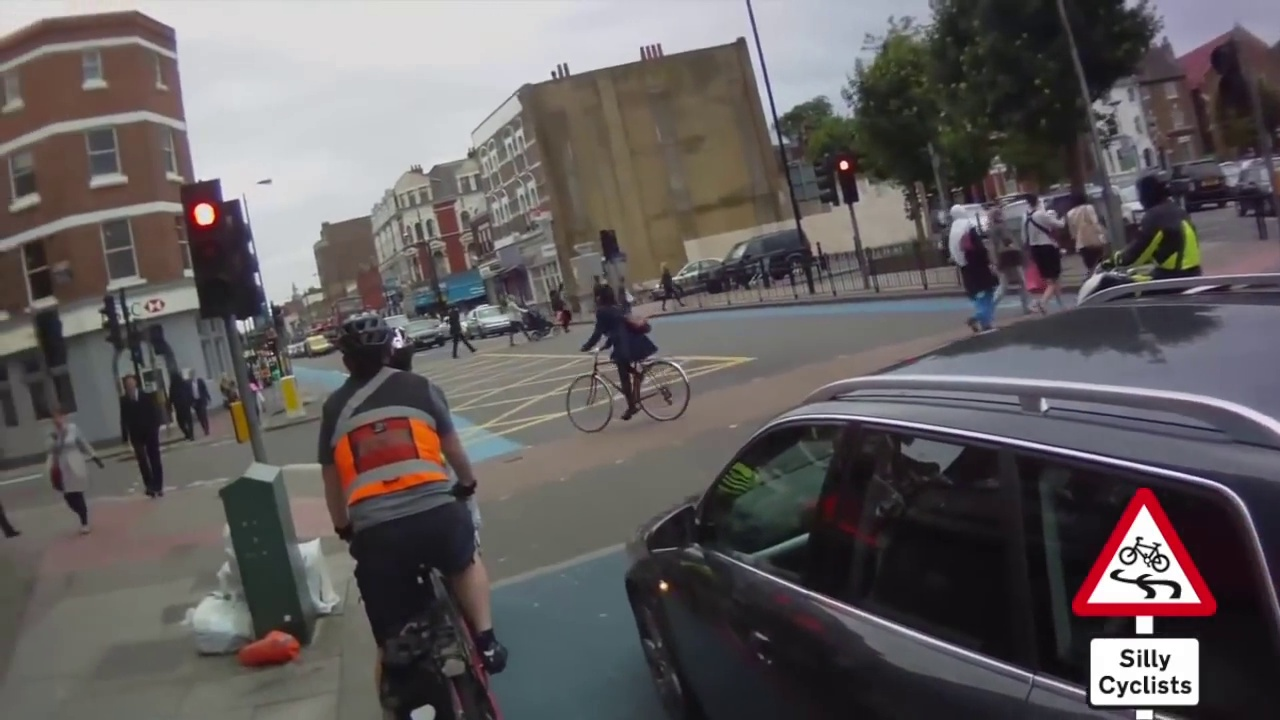cyclist_back: (299, 303, 520, 711)
cyclist_side: (561, 279, 702, 432)
